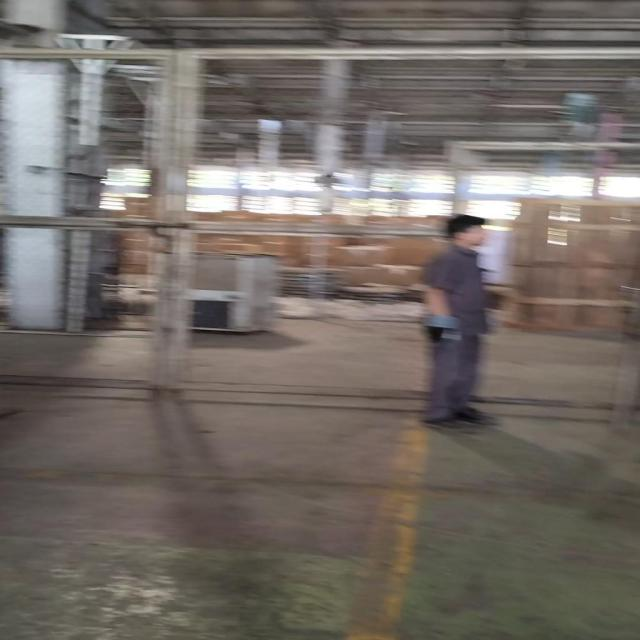Gloves-Detection: (419, 316, 459, 350)
